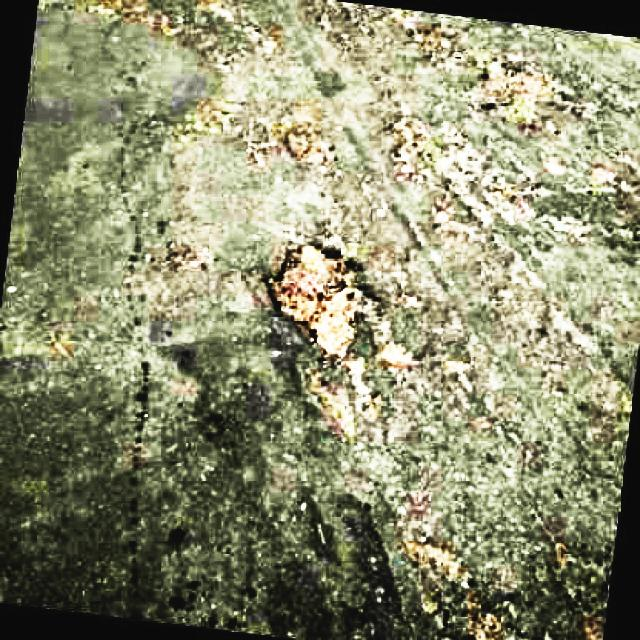pothole: (262, 233, 378, 364)
